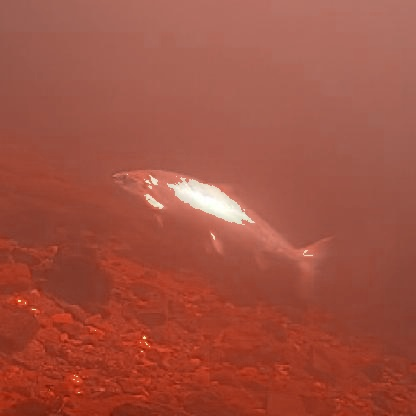salmon: (104, 163, 333, 291)
